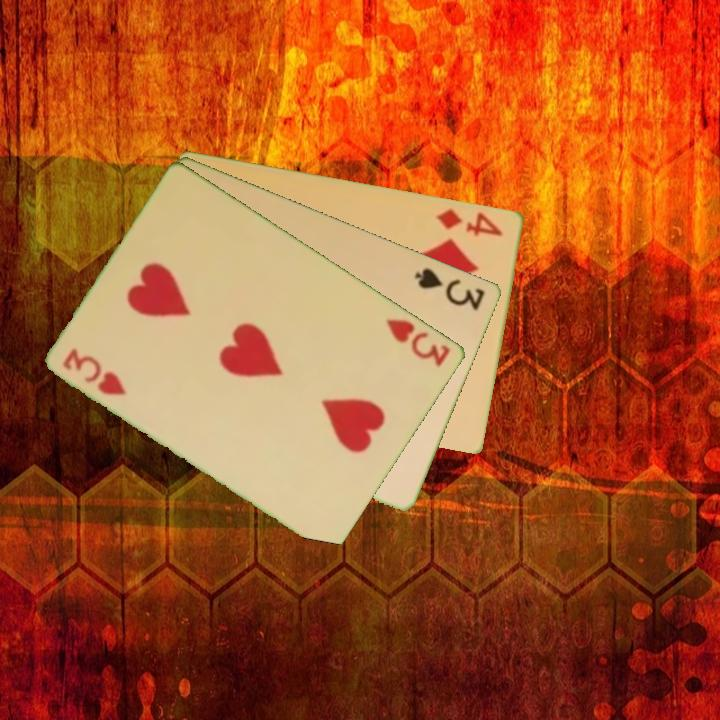3h: (382, 314, 454, 369), (60, 344, 130, 399)
3s: (412, 263, 489, 313)
4d: (433, 205, 506, 239)
